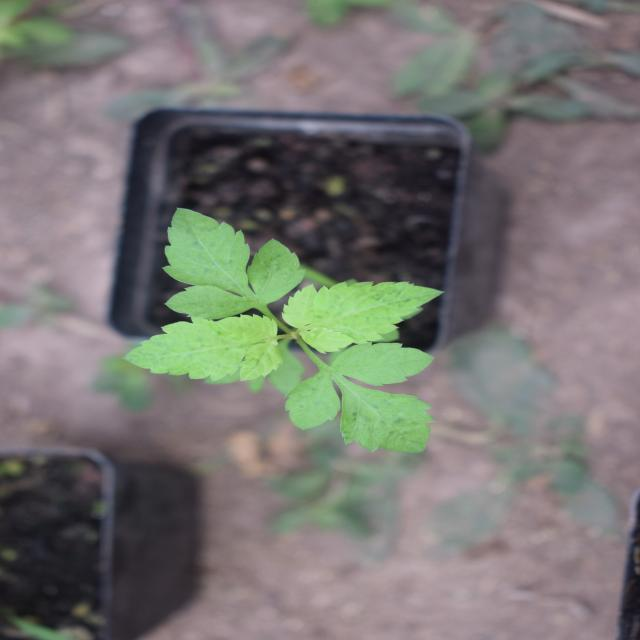Bidens pilosa: (163, 93, 432, 484)
